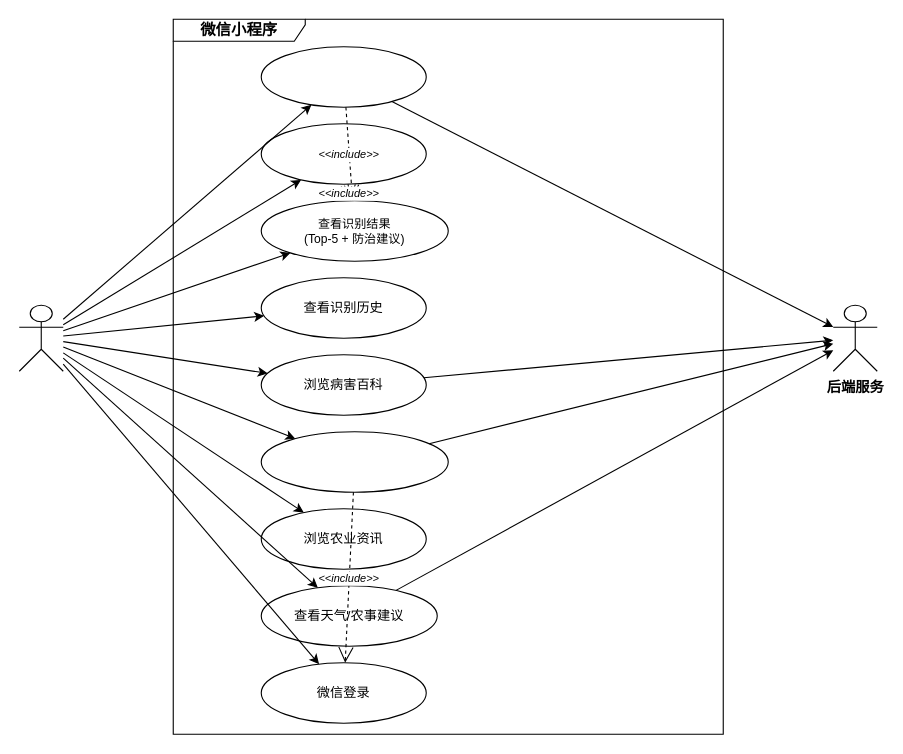
Image size: 903x754. Some labels were removed from this diagram. The shapes that lost their labels are listed below. From the top down, each one's centre as x and y in pixels, then its label:
the point at 343,76: 拍照识别病害
the point at 343,153: 相册选择识别
the point at 40,337: 用户
the point at 354,461: 社区交流 (发帖/评论/点赞)
